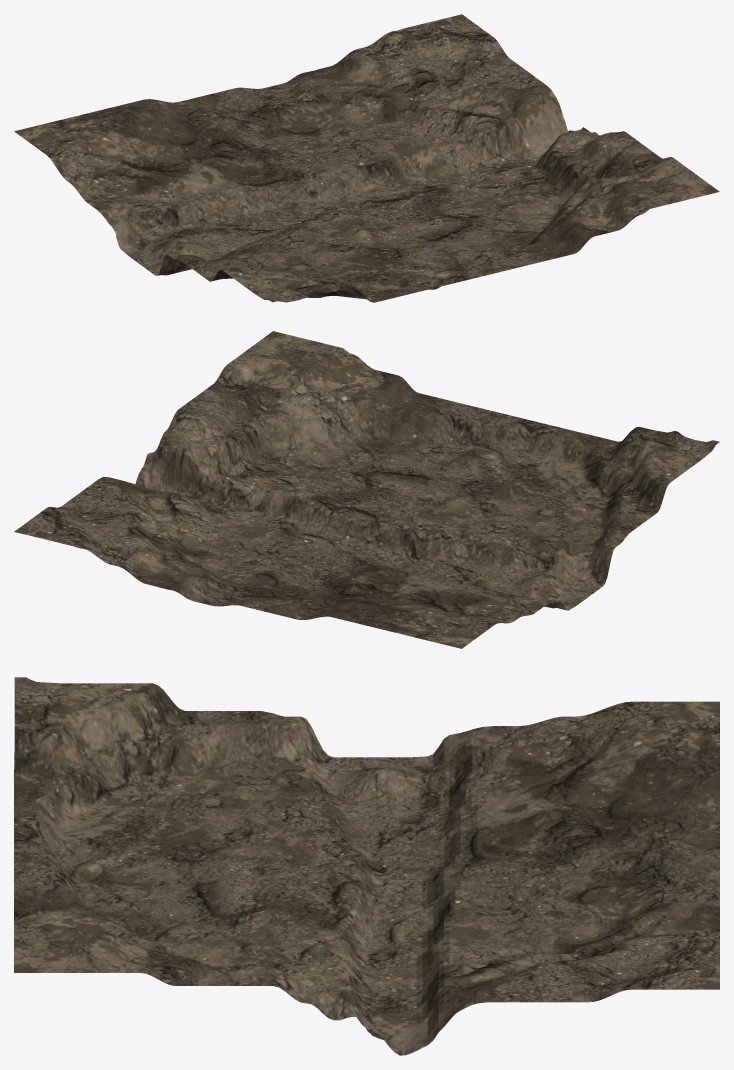
File: Prueba.glb
The picture shows the model from 3 angles, top to bottom: view 1: azimuth 30°, elevation 25°; view 2: azimuth 150°, elevation 25°; view 3: azimuth 270°, elevation 25°; orthographic projection. The views are drawn at different scales.
Parts seen in each view (by area): view 1: Plane.003; view 2: Plane.003; view 3: Plane.003.
Boxes of the visible parts, x1=… form: Plane.003: x1=14, y1=14, x2=719, y2=302; Plane.003: x1=14, y1=331, x2=719, y2=648; Plane.003: x1=14, y1=677, x2=719, y2=1055.
Bounding box in the file's own units: 630 × 81.14 × 630.
Materials: 1 (1 with a texture image).
